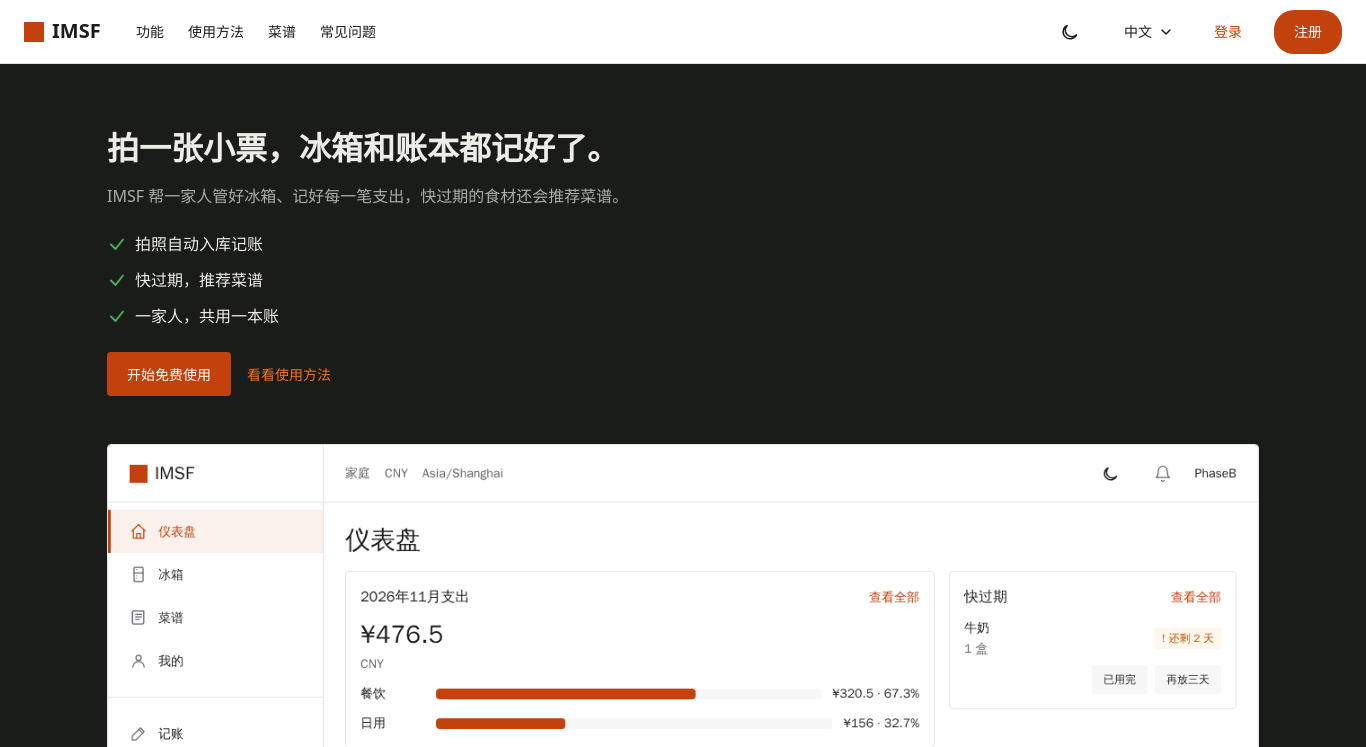
Scenario: language switching › switching to Vietnamese changes the landing copy
This screenshot has width=1366, height=747.
Click the button with aria-label "语言" at [1149, 32], box [1116,10,1182,54]
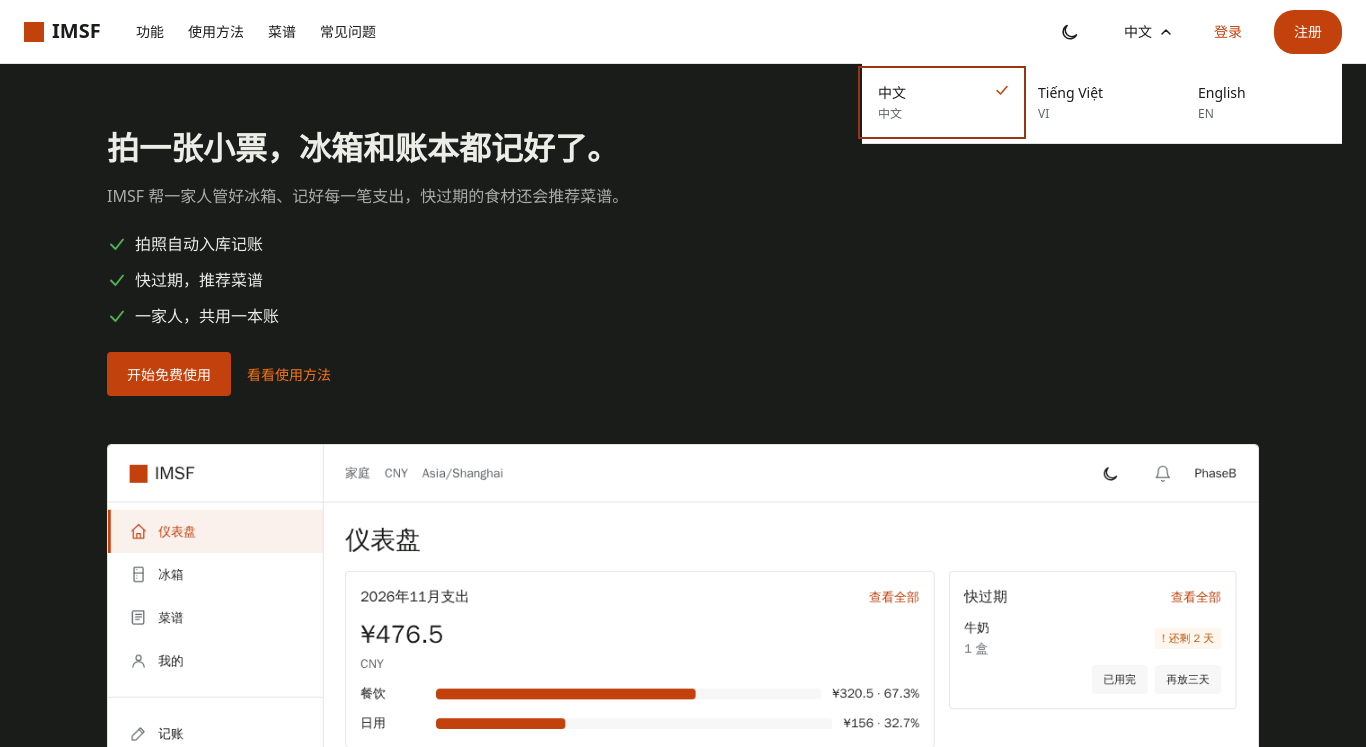
Click the menu item "Tiếng Việt VI" at [1102, 102], box [1022,70,1182,135]
(page scrolled)
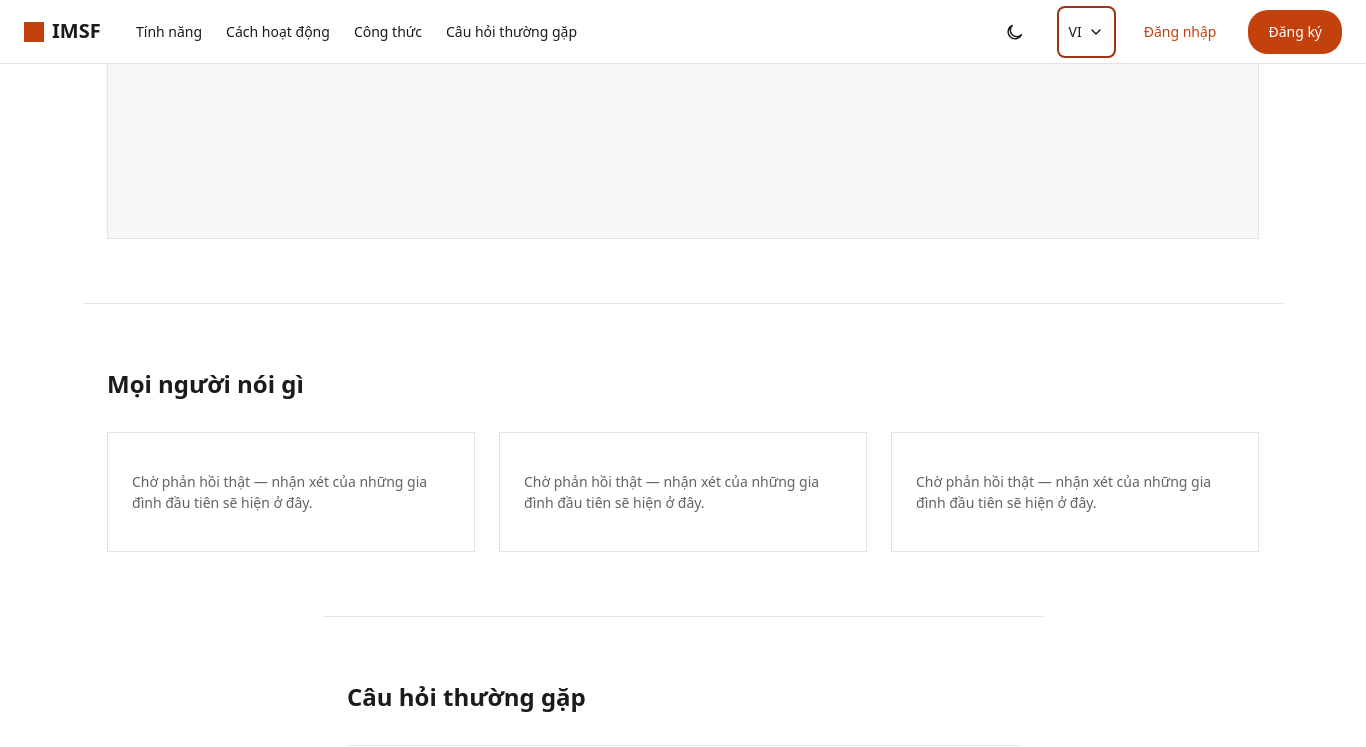
Expected: the heading "Mọi người nói gì" is shown, [107,367,304,400]
